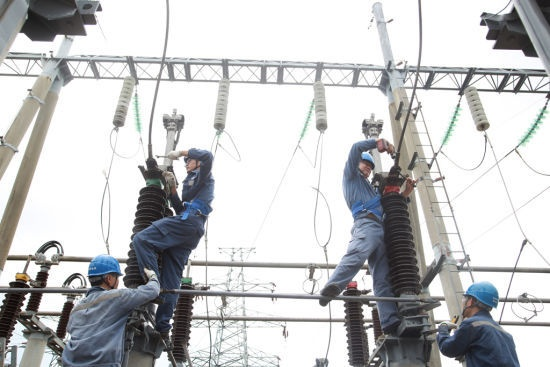blue: (455, 278, 499, 320), (84, 253, 124, 292), (350, 149, 375, 178), (181, 149, 204, 171)
